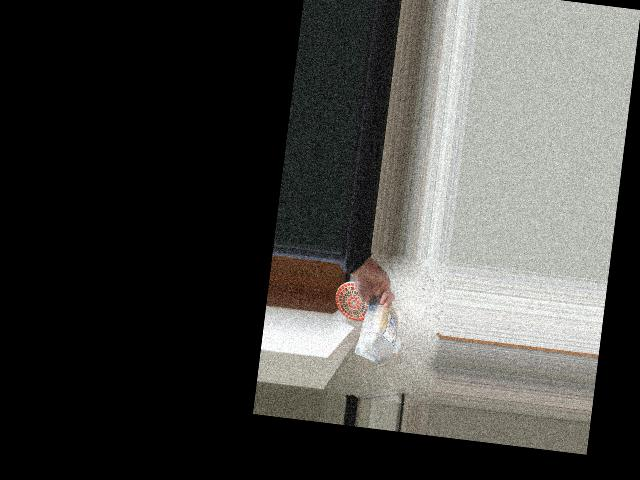cheese: (356, 296, 401, 366)
